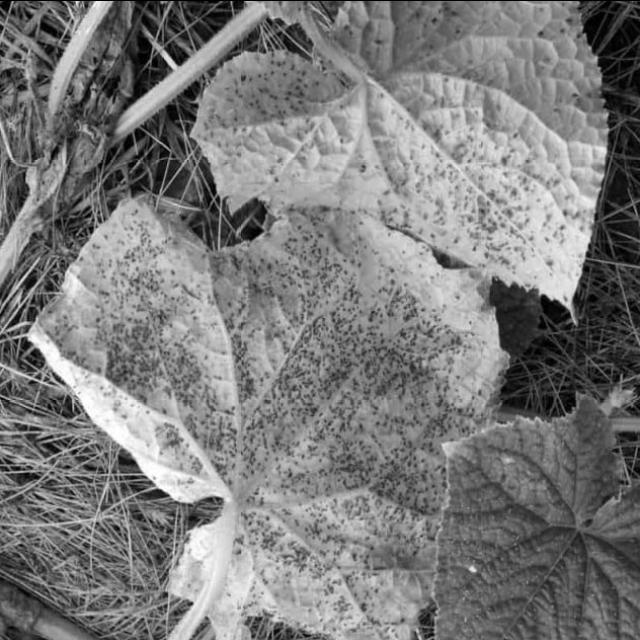Aphids: (32, 187, 503, 640), (190, 0, 606, 302)
